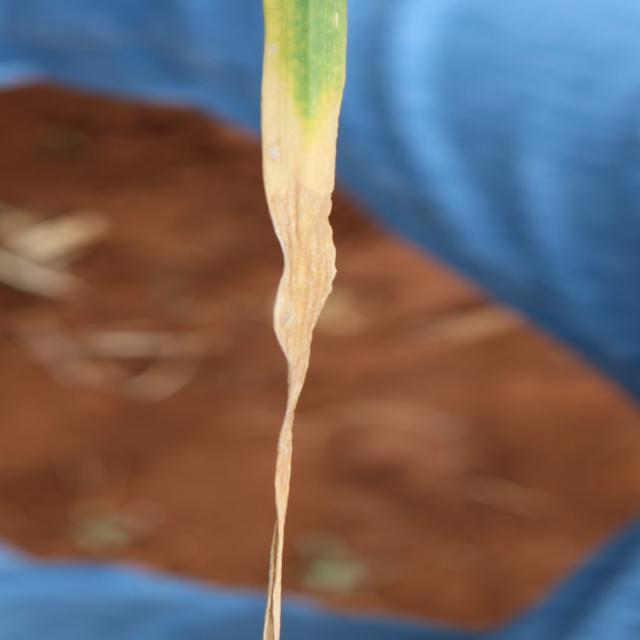Septoria: (258, 1, 349, 638)
